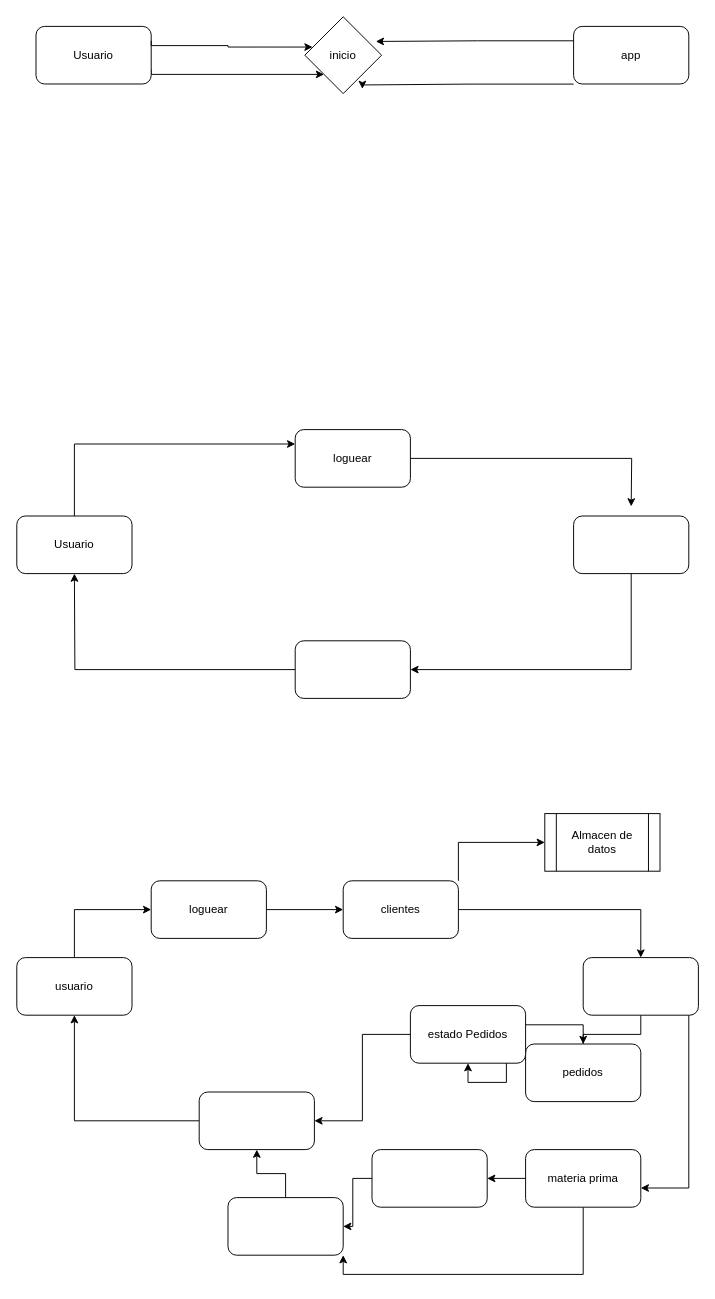
This 715x1299 diagram has some shape labels left out. The box of each missing label's shape, as (x1, y1, x2, y2) in pixels:
administrador: (582, 957, 698, 1015)
adminsitrador: (573, 515, 689, 574)
factura: (198, 1091, 314, 1150)
Movimientos: (227, 1197, 343, 1255)
Producto terminado: (371, 1149, 487, 1207)
trabajar: (294, 640, 410, 698)
